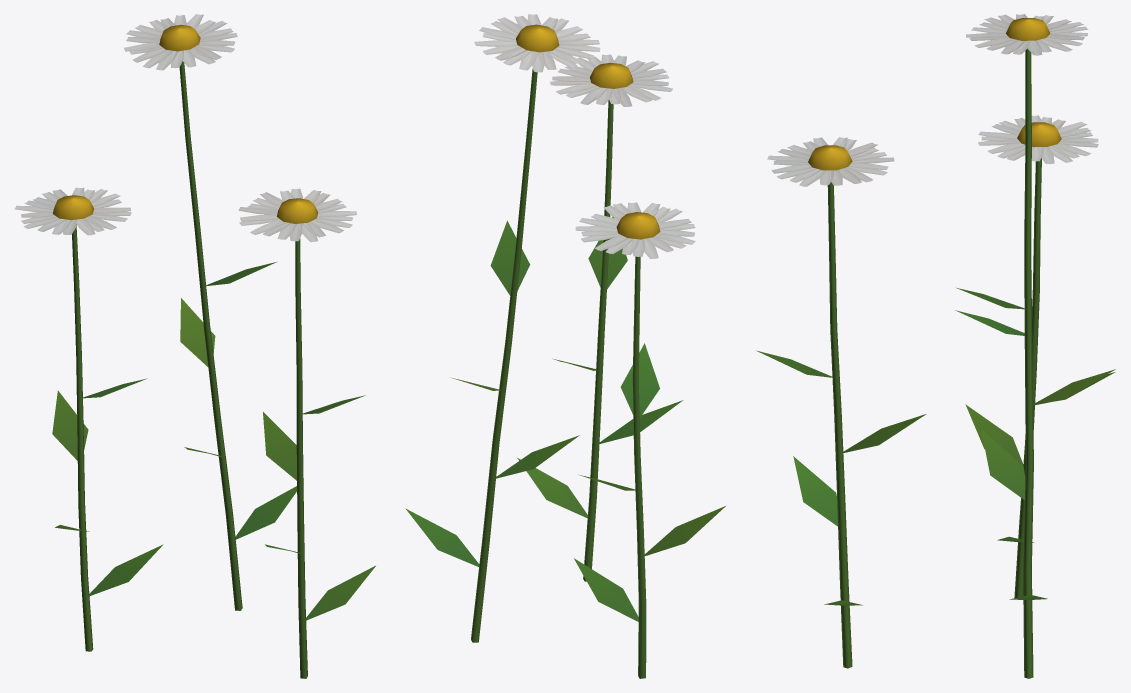
File: flower-daisy-b.lod0.glb
3 renders of one model, left to right at view 1: azimuth 30°, elevation 25°; view 2: azimuth 150°, elevation 25°; view 3: azimuth 270°, elevation 25°, orthographic. The views are drawn at different scales.
Parts seen in each view (by area): view 1: flower-daisy-b.lod0; view 2: flower-daisy-b.lod0; view 3: flower-daisy-b.lod0.
Part boxes in pixels (x1,y1,x2,y2): flower-daisy-b.lod0: (14, 14, 375, 678); flower-daisy-b.lod0: (405, 14, 725, 678); flower-daisy-b.lod0: (756, 14, 1115, 678).
Bounding box in the file's own units: 0.2027 × 0.4178 × 0.2183.
